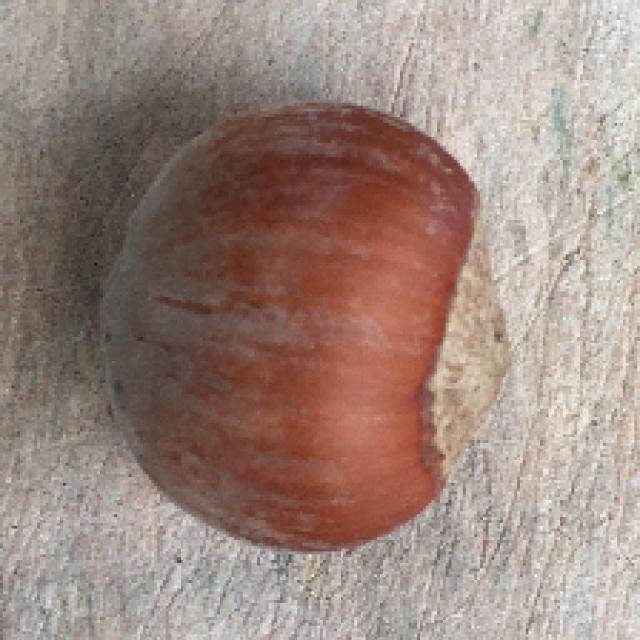qualityHazelnut: (96, 93, 518, 555)
